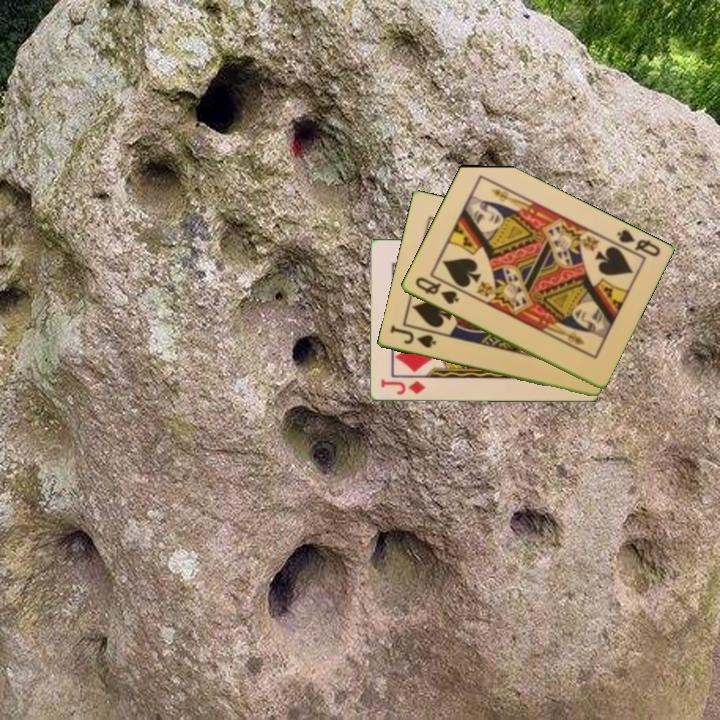Jd: (377, 376, 428, 398)
Js: (386, 323, 439, 351)
Qs: (609, 226, 663, 261), (411, 273, 462, 307)
